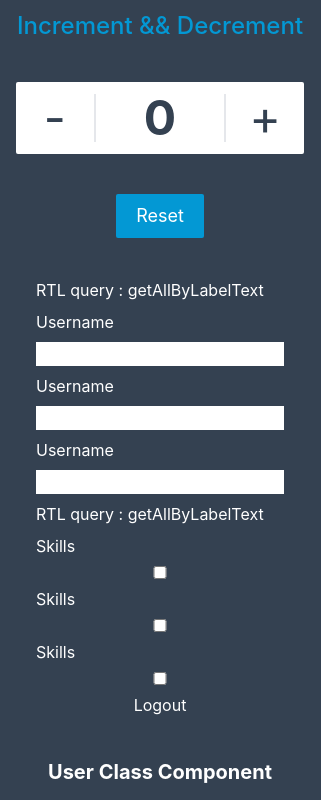
it: resets the count when the "Reset" button is clicked
Click the button "+": {"x": 264, "y": 118} top-left (224, 94), bottom-right (304, 142)
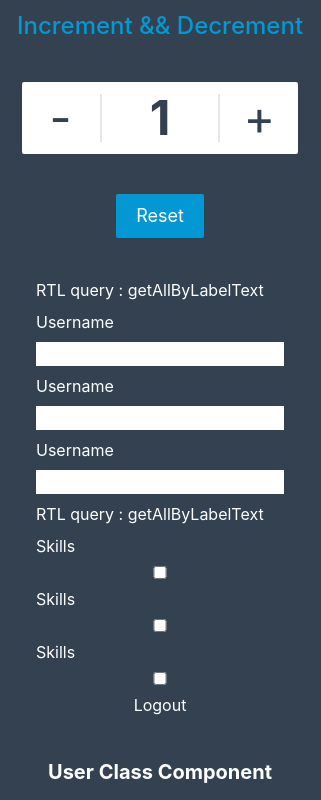
Click the button "Reset": {"x": 160, "y": 216} top-left (116, 194), bottom-right (204, 238)
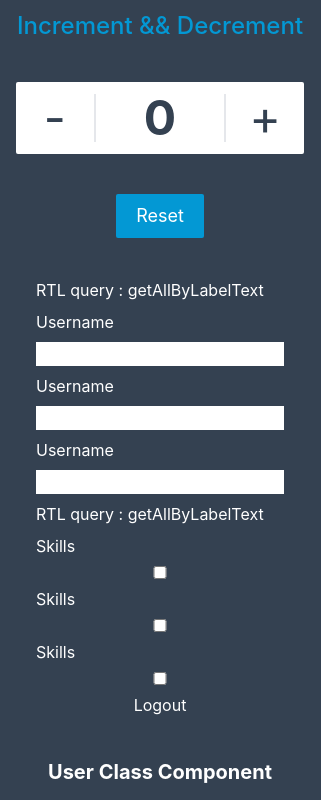
Result: the text "0" is shown at top-left (144, 94), bottom-right (176, 142)
